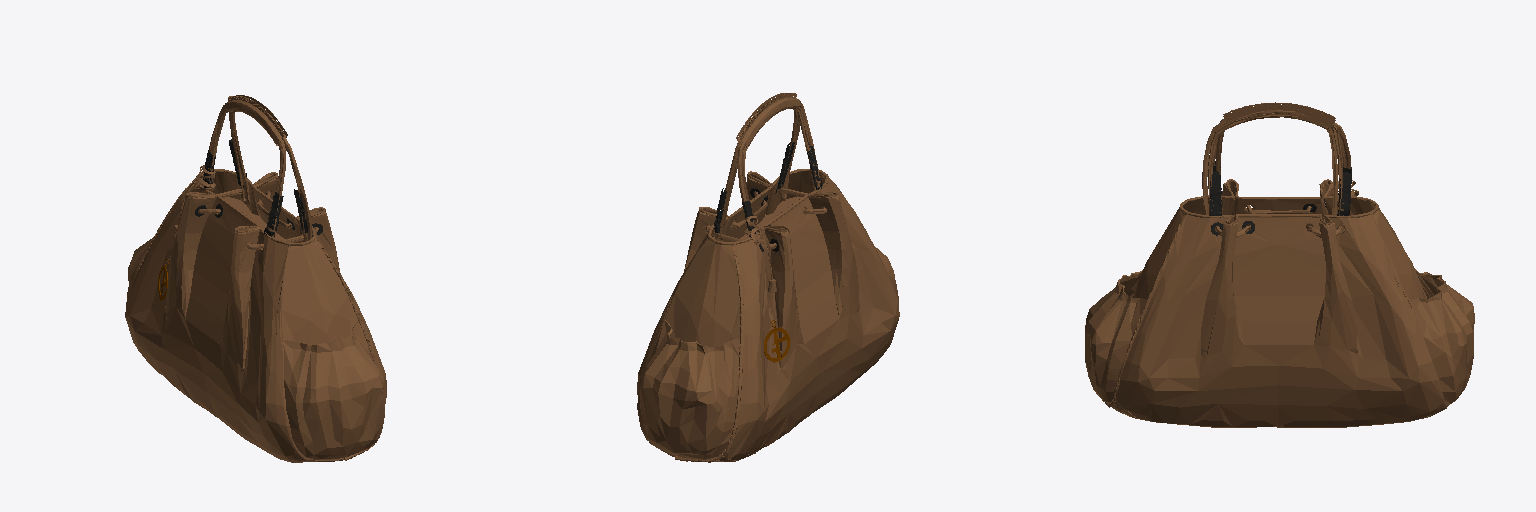
Rendered from armani_bag_beige.obj.
3 views of the same model, side by side, from view 1: azimuth 30°, elevation 25°; view 2: azimuth 150°, elevation 25°; view 3: azimuth 270°, elevation 25° (orthographic).
Parts seen in each view (by area): view 1: Rectangl58; view 2: Rectangl58; view 3: Rectangl58.
Part boxes in pixels (x1,y1,x2,y2): Rectangl58: (125,95,386,462); Rectangl58: (637,93,899,462); Rectangl58: (1085,102,1474,427).
Size of the model in its own units: 0.0119 by 0.0281 by 0.0324.